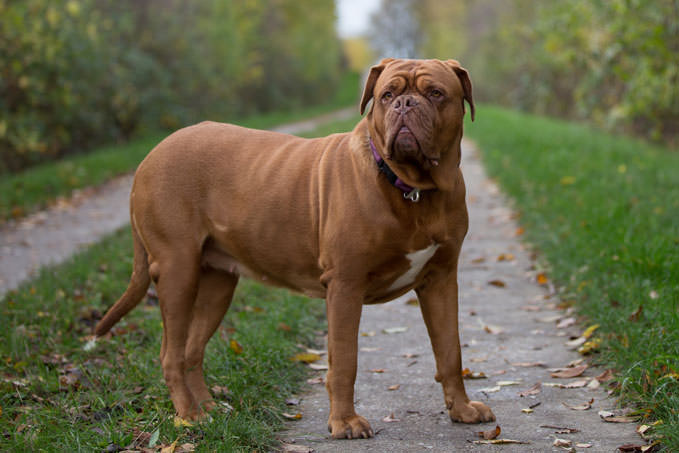dogue_de_bordeaux: (96, 56, 496, 438)
